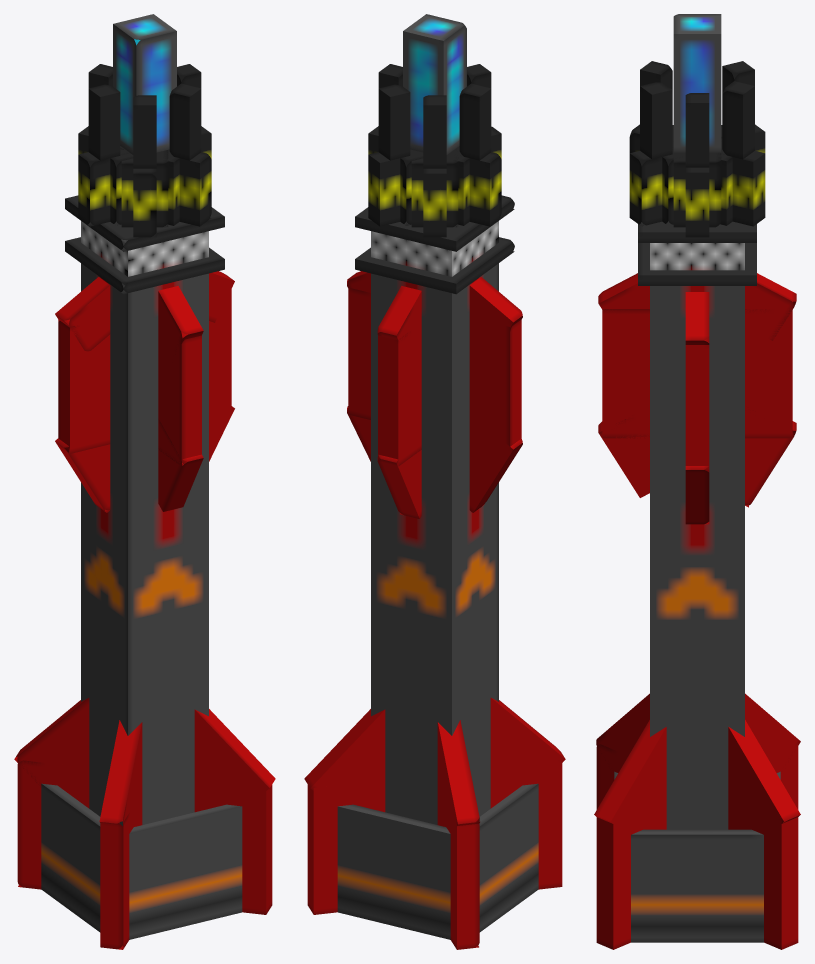
Rendered from missile_thermobaric.obj.
3 renders of one model, left to right at view 1: azimuth 30°, elevation 25°; view 2: azimuth 150°, elevation 25°; view 3: azimuth 270°, elevation 25°, orthographic.
Parts seen in each view (by area): view 1: ShapeA, ShapeB, ShapeF, ShapeH, ShapeO, ShapeE, AK, ShapeN, ShapeG, ShapeI, ShapeT, AC (+15 smaller); view 2: ShapeA, ShapeC, ShapeG, ShapeO, ShapeI, ShapeE, AK, ShapeN, ShapeF, ShapeH, ShapeT, ShapeK (+13 smaller); view 3: ShapeA, ShapeD, ShapeN, ShapeF, ShapeG, ShapeI, ShapeH, AK, ShapeO, AB, AD, ShapeT (+16 smaller).
Part boxes in pixels (<box>): ShapeA: <box>81,221,208,825</box>; ShapeB: <box>129,804,242,939</box>; ShapeF: <box>17,760,272,914</box>; ShapeH: <box>14,698,275,811</box>; ShapeO: <box>58,289,231,453</box>; ShapeE: <box>41,783,100,932</box>; AK: <box>113,14,176,154</box>; ShapeN: <box>158,323,201,465</box>; ShapeG: <box>100,793,142,949</box>; ShapeI: <box>99,720,142,826</box>; ShapeT: <box>65,237,224,294</box>; AC: <box>78,126,211,226</box>; ShapeA: <box>371,221,498,824</box>; ShapeC: <box>337,804,450,939</box>; ShapeG: <box>307,760,562,914</box>; ShapeO: <box>348,287,521,446</box>; ShapeI: <box>304,698,565,807</box>; ShapeE: <box>479,783,538,932</box>; AK: <box>403,14,466,154</box>; ShapeN: <box>378,323,421,466</box>; ShapeF: <box>437,793,479,949</box>; ShapeH: <box>437,720,479,826</box>; ShapeT: <box>355,237,514,294</box>; ShapeK: <box>469,413,522,512</box>; ShapeA: <box>650,243,744,829</box>; ShapeD: <box>631,829,763,942</box>; ShapeN: <box>602,301,792,438</box>; ShapeF: <box>596,743,798,949</box>; ShapeG: <box>596,744,798,949</box>; ShapeI: <box>596,693,800,823</box>; ShapeH: <box>594,693,800,831</box>; AK: <box>673,14,721,152</box>; ShapeO: <box>685,336,709,472</box>; AB: <box>629,124,765,226</box>; AD: <box>629,124,765,226</box>; ShapeT: <box>638,243,756,285</box>.
Size of the model in its own units: 1.09 by 5.12 by 1.09.
